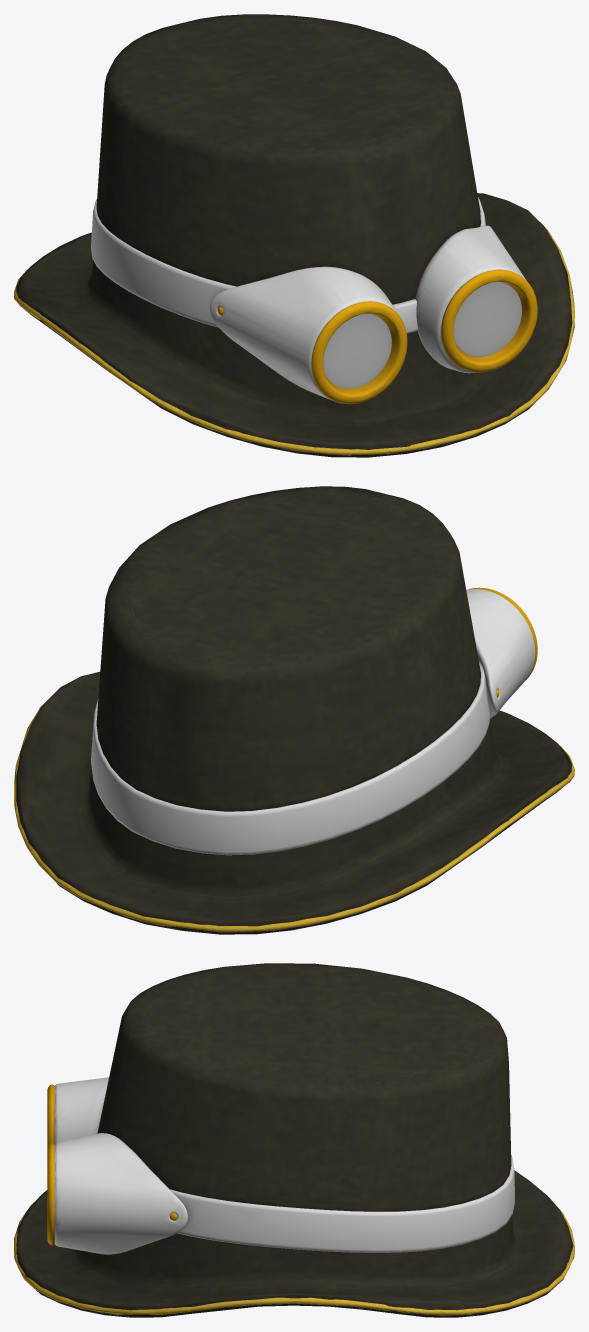
Rendered from relay-hat.glb.
The picture shows the model from 3 angles, top to bottom: view 1: azimuth 30°, elevation 25°; view 2: azimuth 150°, elevation 25°; view 3: azimuth 270°, elevation 25°; orthographic projection. The views are drawn at different scales.
Visible parts, largest first — view 1: Hat; view 2: Hat; view 3: Hat.
Boxes of the visible parts, left/top/right/bottom form: Hat: left=14, top=14, right=574, bottom=457; Hat: left=14, top=486, right=574, bottom=934; Hat: left=14, top=963, right=574, bottom=1317.
Size of the model in its own units: 0.5677 by 0.3024 by 0.6275.
1 material, 1 textured.
